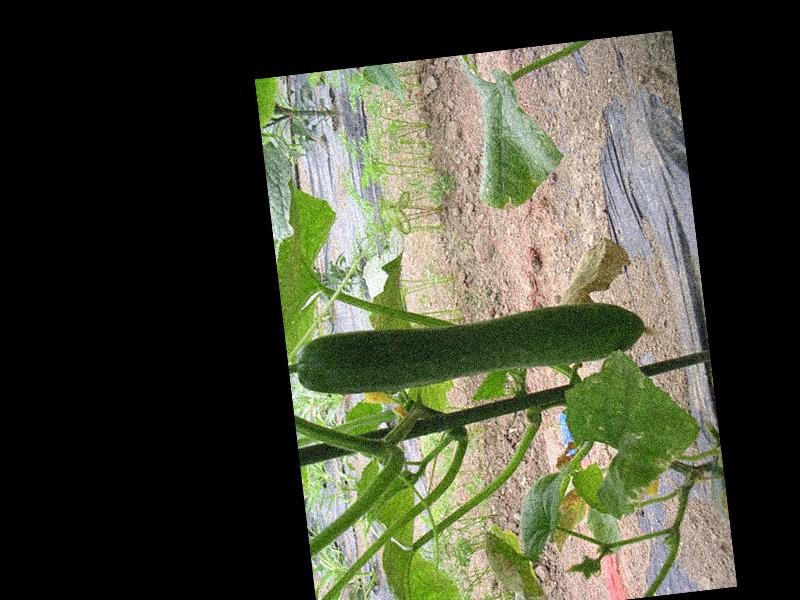Cucumber: (293, 295, 657, 401)
